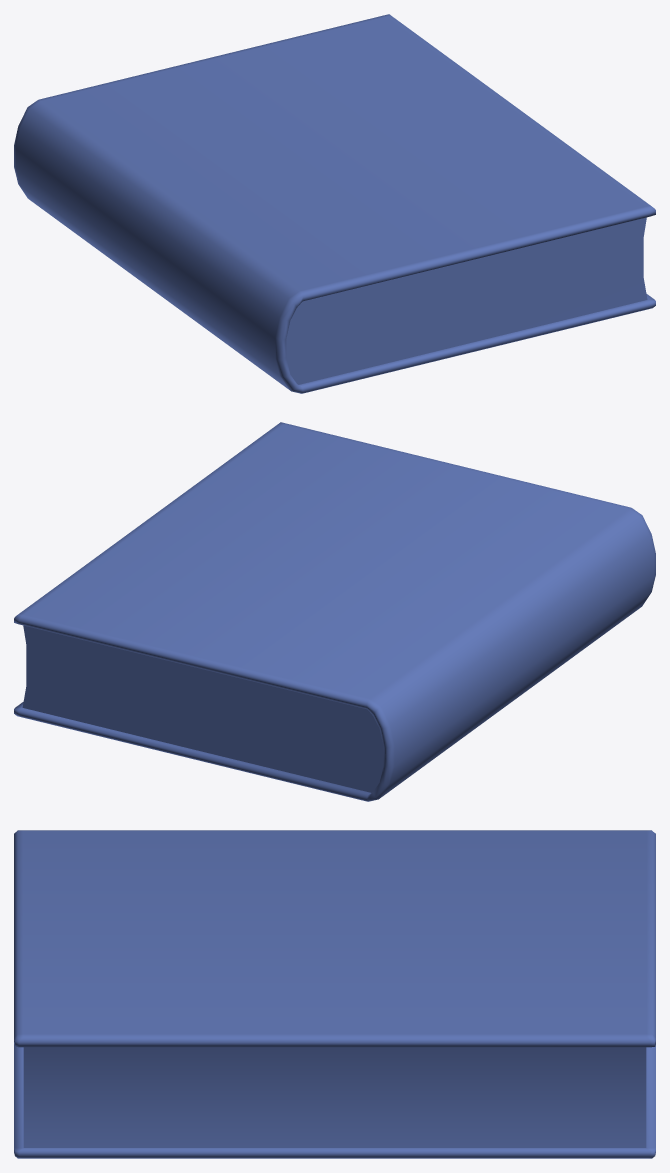
The model's file is Book_single_A.FBX.
3 renders of one model, top to bottom at view 1: azimuth 30°, elevation 25°; view 2: azimuth 150°, elevation 25°; view 3: azimuth 270°, elevation 25°, orthographic. The views are drawn at different scales.
Parts seen in each view (by area): view 1: Book_single_A_LOD00; view 2: Book_single_A_LOD00; view 3: Book_single_A_LOD00.
Part boxes in pixels (x1,y1,x2,y2): Book_single_A_LOD00: [14, 14, 655, 393]; Book_single_A_LOD00: [14, 422, 655, 801]; Book_single_A_LOD00: [14, 830, 655, 1158].
Size of what is drawn, in the model's own units: 20.87 by 5.34 by 25.51.
